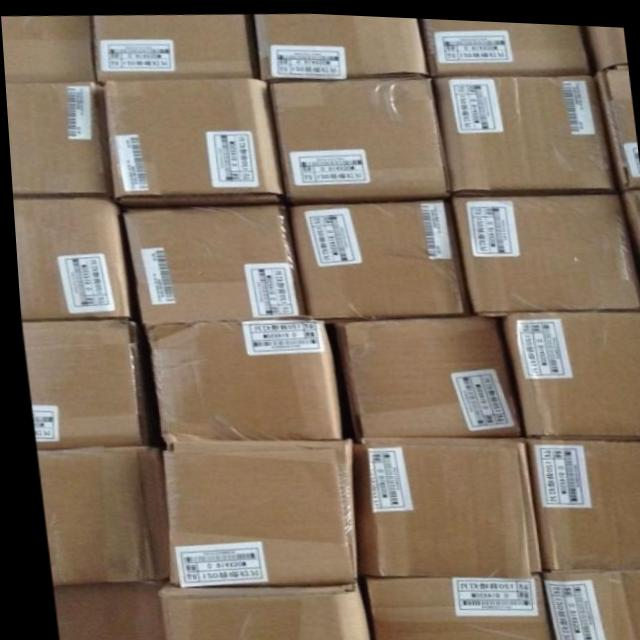box: (160, 437, 352, 585), (353, 435, 535, 581), (138, 318, 341, 440), (446, 186, 640, 310), (328, 309, 513, 436), (263, 72, 445, 199), (280, 190, 463, 316), (117, 200, 299, 323), (436, 70, 616, 192), (105, 79, 280, 203), (31, 440, 162, 587), (488, 306, 640, 430), (18, 318, 150, 451), (518, 433, 640, 566), (10, 196, 131, 320), (356, 573, 545, 640), (5, 84, 112, 196), (155, 584, 365, 640), (250, 13, 429, 78), (94, 15, 250, 79), (421, 15, 594, 70), (535, 563, 640, 640), (590, 60, 640, 186), (1, 17, 96, 83), (46, 583, 154, 640), (611, 178, 640, 270), (581, 20, 628, 69)
